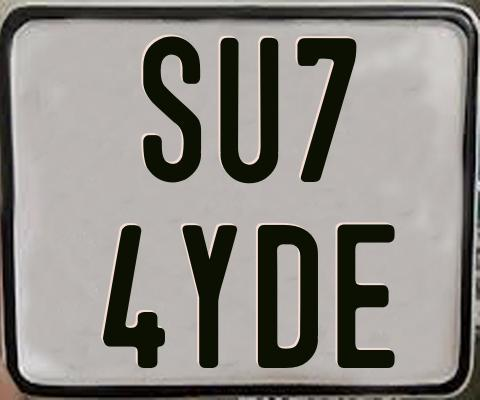4: (101, 224, 165, 371)
7: (297, 36, 360, 180)
D: (255, 223, 320, 371)
E: (335, 224, 393, 369)
S: (143, 36, 204, 186)
U: (217, 35, 275, 184)
Y: (180, 223, 237, 368)
